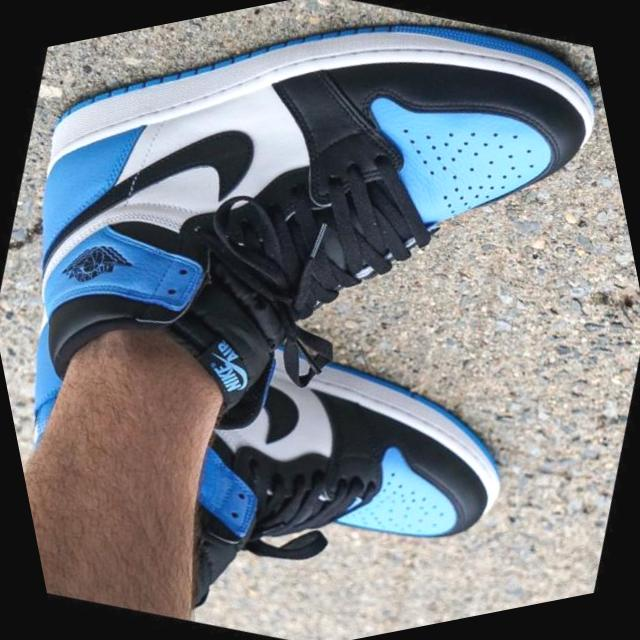nike_original_jordan: (0, 0, 640, 541), (0, 217, 562, 640)
